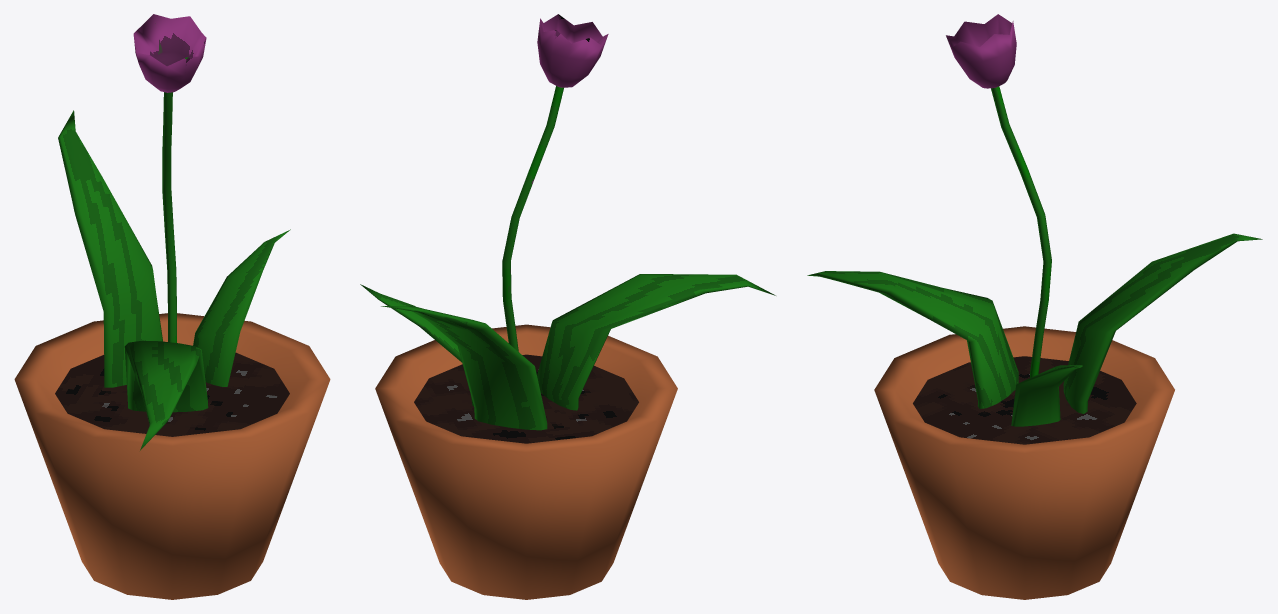
The model's file is flower.glb.
3 views of the same model, side by side, from view 1: azimuth 30°, elevation 25°; view 2: azimuth 150°, elevation 25°; view 3: azimuth 270°, elevation 25° (orthographic). The views are drawn at different scales.
Visible parts, largest first — view 1: Cylinder, BezierCurve; view 2: Cylinder, BezierCurve; view 3: Cylinder, BezierCurve.
Boxes of the visible parts, bbox=[...] form: Cylinder: bbox=[14, 313, 330, 599]; BezierCurve: bbox=[58, 14, 290, 450]; Cylinder: bbox=[375, 324, 677, 599]; BezierCurve: bbox=[360, 14, 775, 430]; Cylinder: bbox=[874, 326, 1174, 599]; BezierCurve: bbox=[807, 14, 1262, 426].
Bounding box in the file's own units: 3.38 × 6.12 × 4.78.
2 materials, 2 textured.
